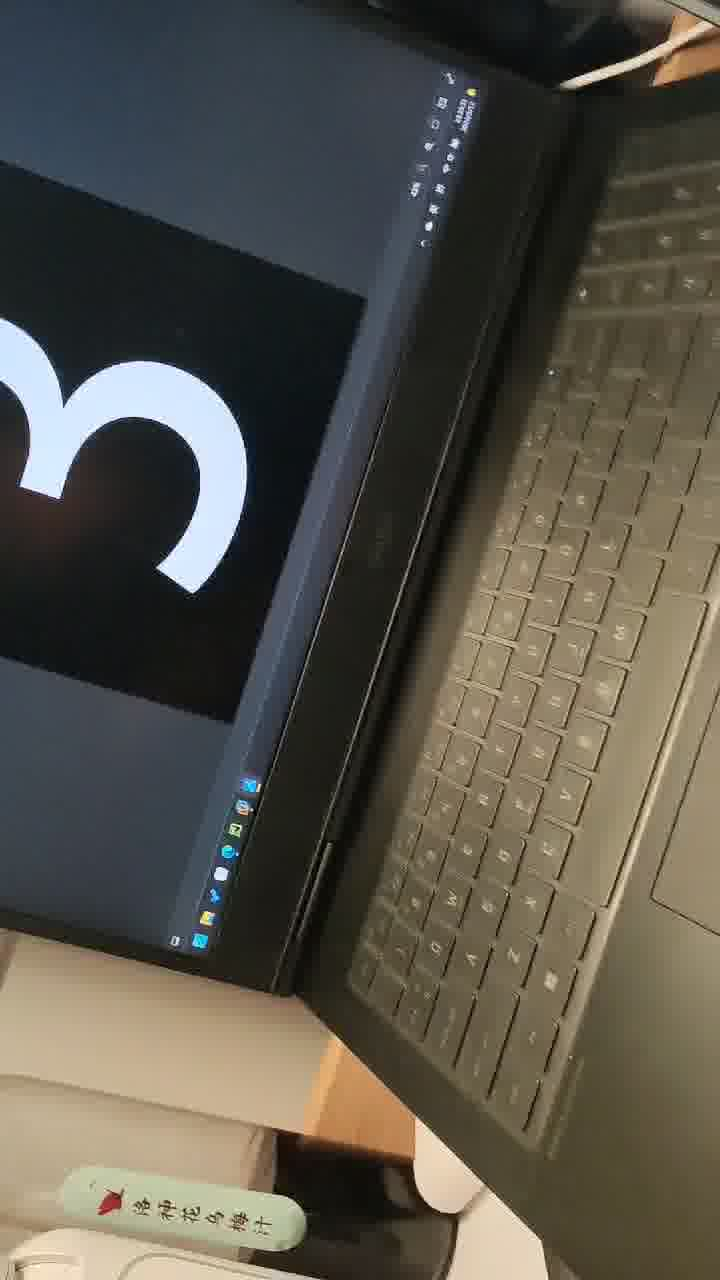three: (13, 217, 423, 667)
